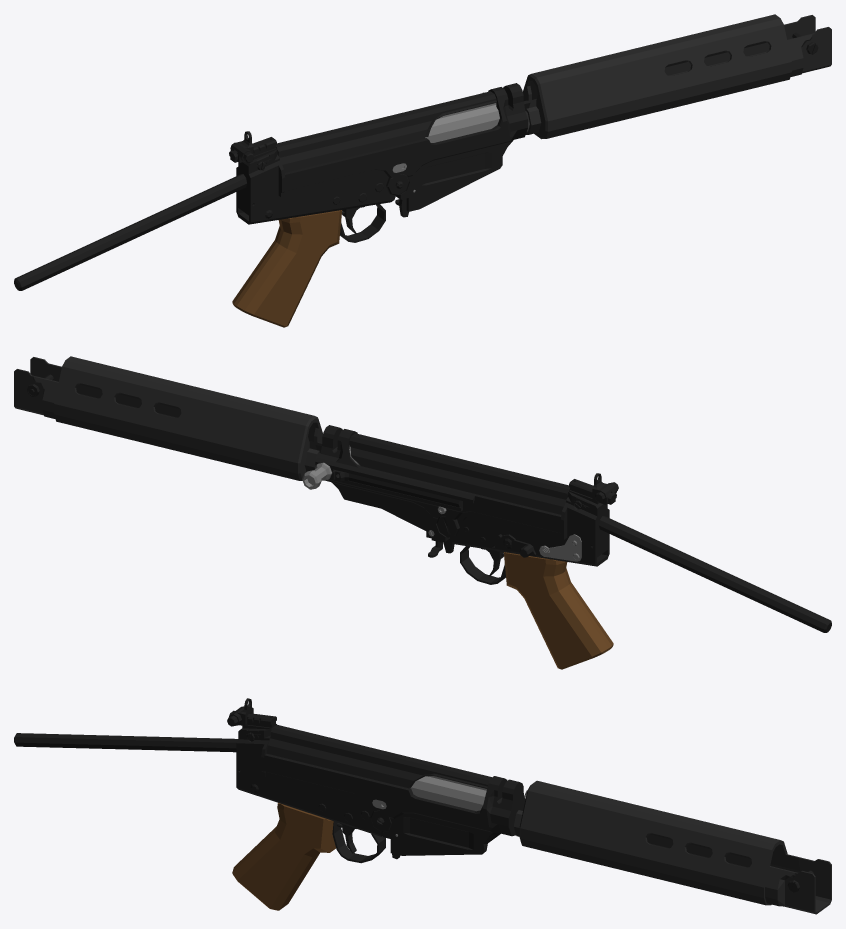
File: fn_fal.glb
3 views of the same model, one above another, from view 1: azimuth 30°, elevation 25°; view 2: azimuth 150°, elevation 25°; view 3: azimuth 330°, elevation 25° (orthographic).
Parts seen in each view (by area): view 1: fal handguard_9, fal lower receiver_10, fal upper receiver_17, fal grip_8, fal top cover_15, fal bolt_5; view 2: fal handguard_9, fal lower receiver_10 (×2), fal upper receiver_17, fal top cover_15, fal grip_8, fal charging handle_7; view 3: fal handguard_9, fal upper receiver_17, fal lower receiver_10, fal grip_8, fal top cover_15, fal bolt_5.
Boxes of the visible parts, x1=… form: fal handguard_9: x1=523, y1=14, x2=831, y2=139; fal lower receiver_10: x1=14, y1=131, x2=395, y2=290; fal upper receiver_17: x1=284, y1=83, x2=527, y2=211; fal grip_8: x1=232, y1=210, x2=342, y2=327; fal top cover_15: x1=276, y1=91, x2=496, y2=172; fal bolt_5: x1=425, y1=103, x2=499, y2=142; fal handguard_9: x1=14, y1=356, x2=322, y2=480; fal lower receiver_10 (×2): x1=450, y1=473, x2=831, y2=632; fal upper receiver_17: x1=315, y1=425, x2=561, y2=557; fal top cover_15: x1=349, y1=433, x2=569, y2=514; fal grip_8: x1=503, y1=552, x2=613, y2=669; fal charging handle_7: x1=331, y1=469, x2=462, y2=508; fal handguard_9: x1=513, y1=780, x2=831, y2=914; fal upper receiver_17: x1=264, y1=753, x2=525, y2=855; fal lower receiver_10: x1=14, y1=698, x2=385, y2=863; fal grip_8: x1=232, y1=803, x2=335, y2=910; fal top cover_15: x1=266, y1=724, x2=491, y2=788; fal bolt_5: x1=410, y1=776, x2=486, y2=811.
Size of the model in its own units: 7.95 by 1.89 by 0.6997.
